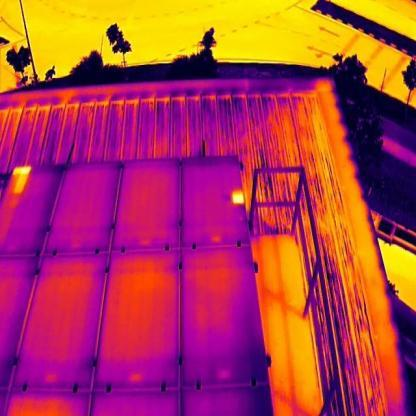anomaly: (10, 164, 34, 196), (229, 188, 246, 207)
